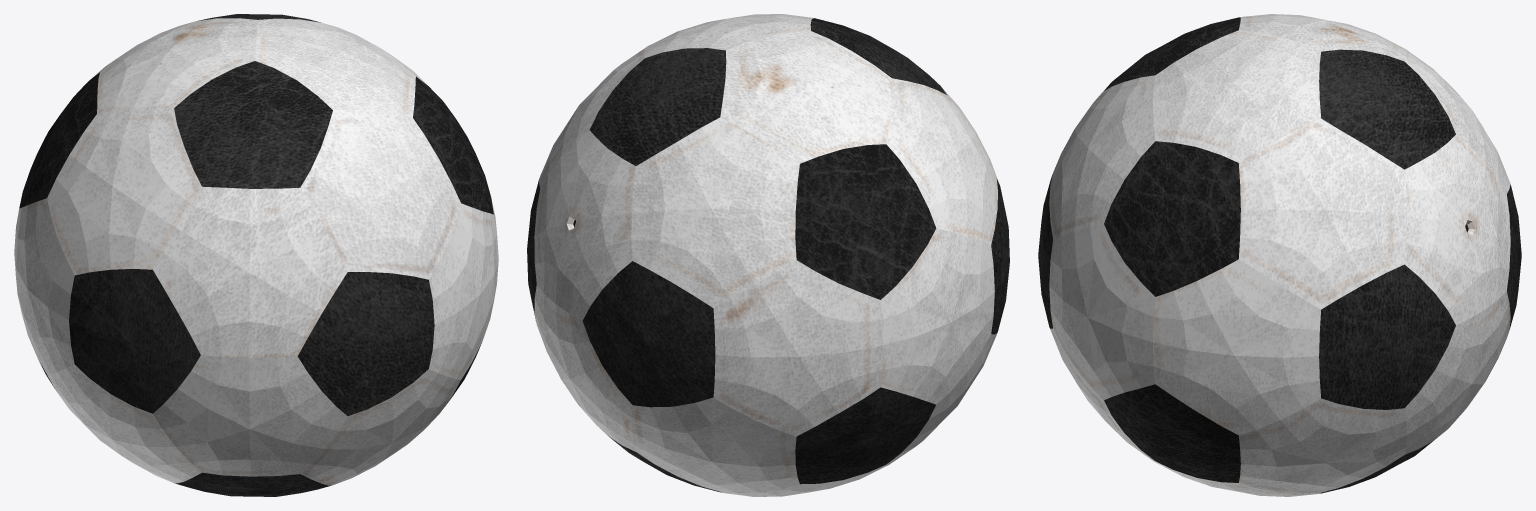
The model's file is football_lowpoly.obj.
3 views of the same model, side by side, from view 1: azimuth 30°, elevation 25°; view 2: azimuth 150°, elevation 25°; view 3: azimuth 270°, elevation 25° (orthographic).
Visible parts, largest first — view 1: lowpolyballmesh; view 2: lowpolyballmesh; view 3: lowpolyballmesh.
Boxes of the visible parts, left/top/right/bottom form: lowpolyballmesh: left=14, top=14, right=498, bottom=496; lowpolyballmesh: left=527, top=14, right=1009, bottom=496; lowpolyballmesh: left=1038, top=14, right=1521, bottom=496.
Bounding box in the file's own units: 1.62 × 1.62 × 1.62.
1 material, 1 textured.
